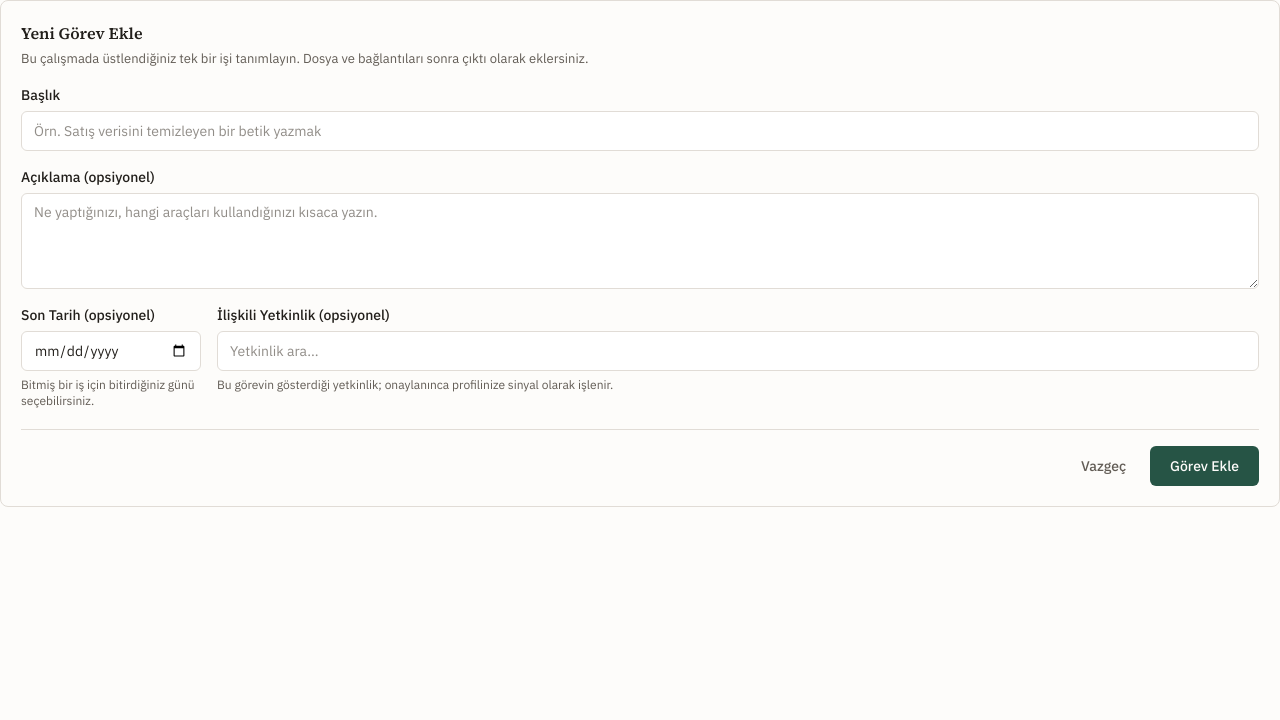
Test: TaskForm › 422 INVALID_REQUEST → geçersiz yetkinlik mesajı gösterilir
The image size is (1280, 720).
Type "x" into the field labelled "Başlık" at [640, 130], box [21, 110, 1259, 150]
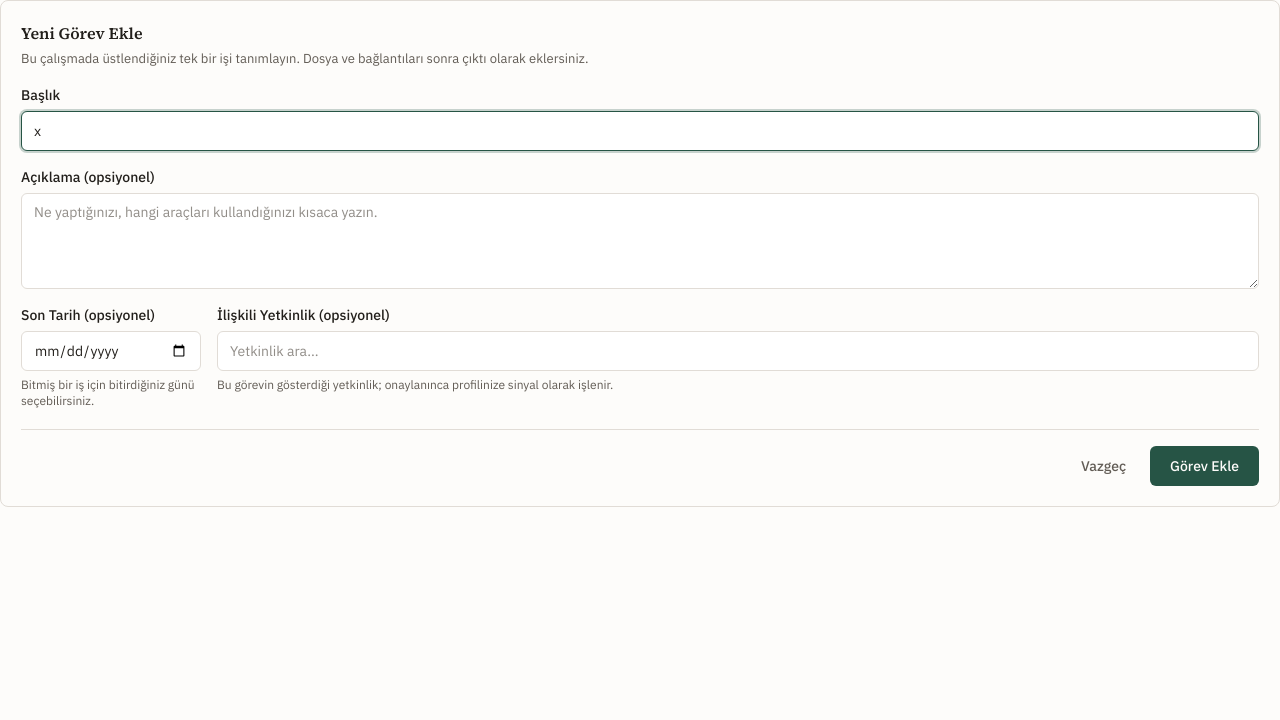
Click the button "Görev Ekle" at [1205, 466], box [1150, 446, 1259, 486]
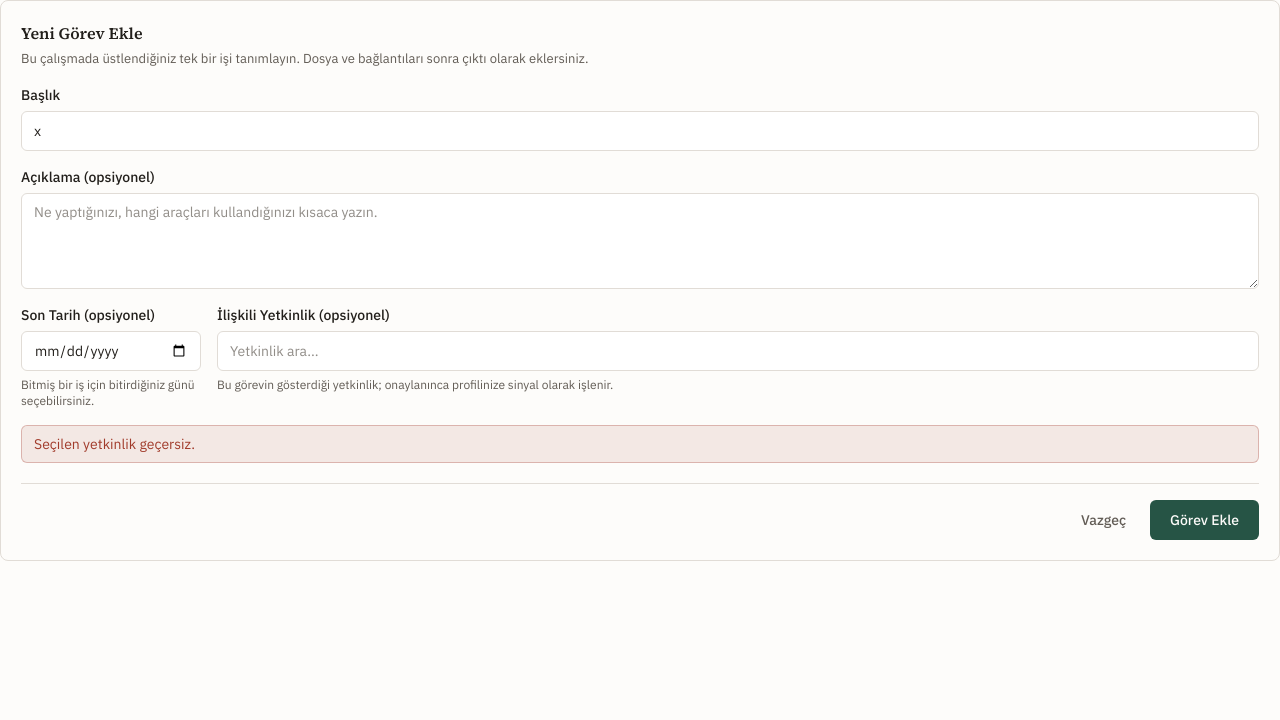
expect the text "Seçilen yetkinlik geçersiz." is shown: met, box [21, 424, 1259, 462]
